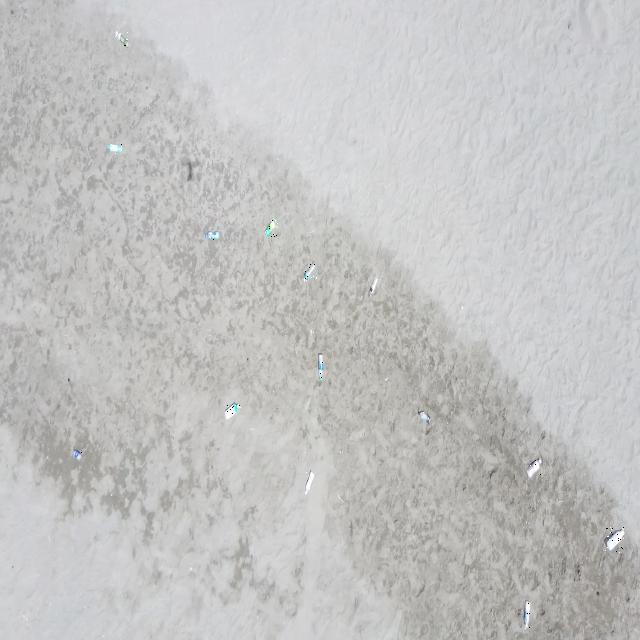Garbage: (606, 527, 624, 550), (527, 457, 540, 477), (304, 471, 313, 495), (224, 403, 239, 417), (417, 409, 430, 424), (303, 264, 315, 280), (264, 219, 276, 235), (316, 352, 323, 379), (368, 276, 377, 295), (523, 600, 529, 627), (116, 31, 127, 45), (204, 231, 219, 239), (187, 160, 192, 180), (71, 448, 80, 459), (108, 143, 121, 150), (336, 493, 344, 503)
